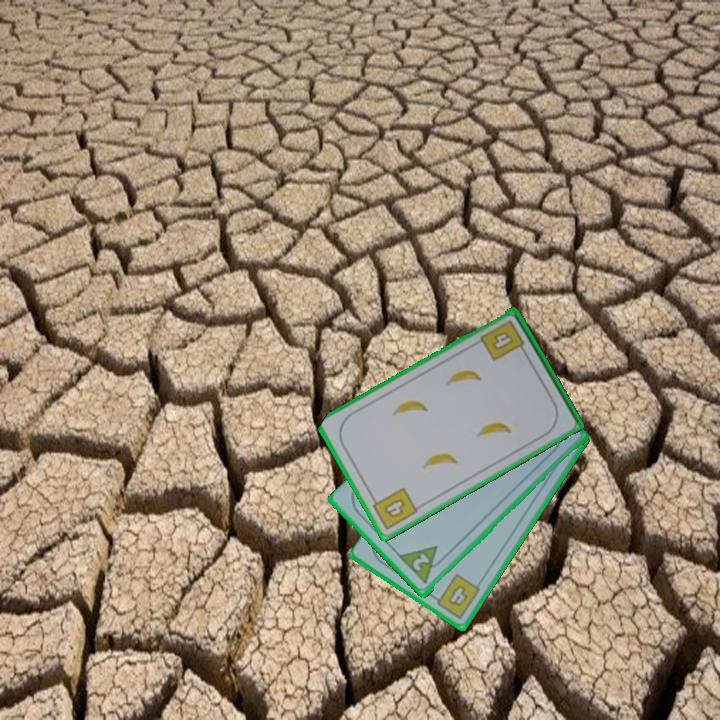2p: (396, 542, 450, 588)
4b: (429, 570, 484, 622), (367, 484, 421, 533), (477, 316, 529, 364)
